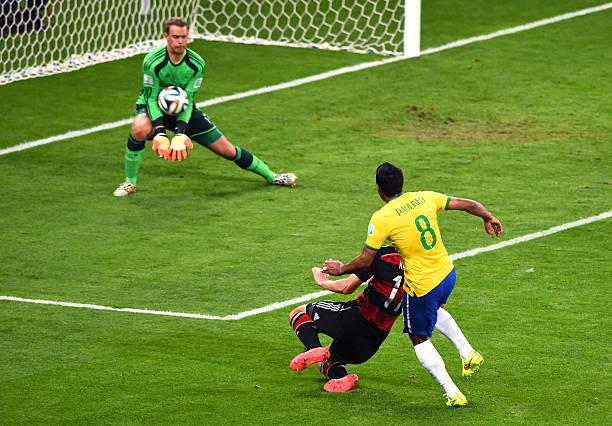Goalkeeper: (112, 17, 295, 197)
Player: (313, 163, 502, 406), (289, 246, 404, 393)
ball: (161, 86, 188, 115)
